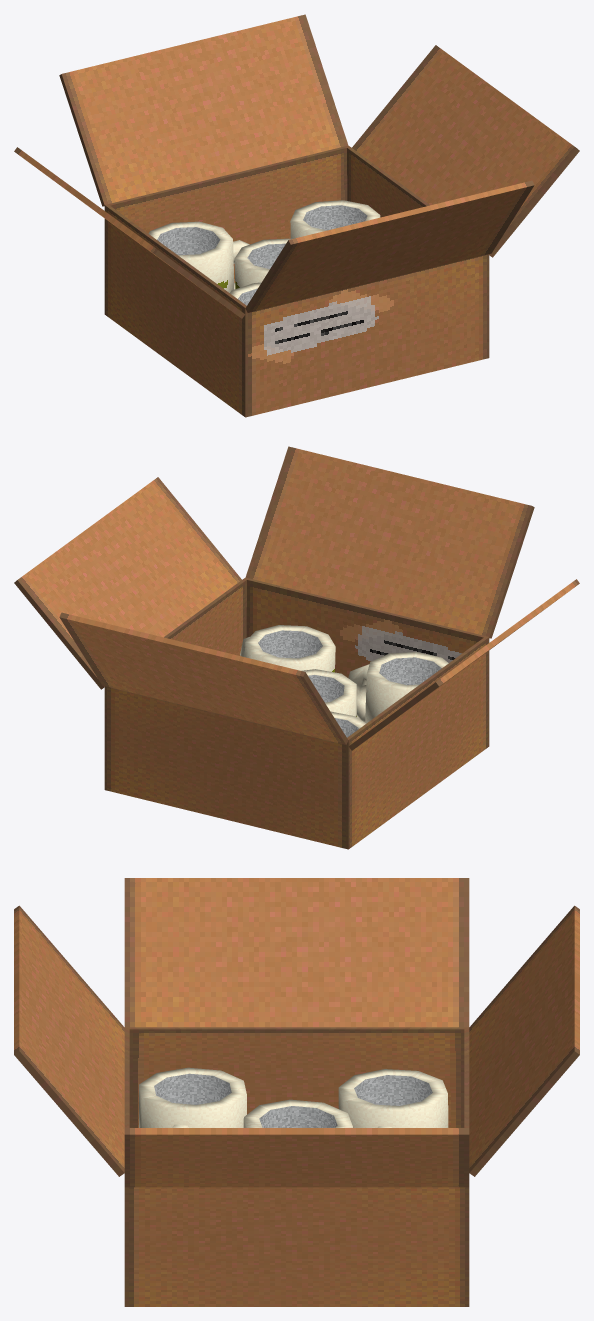
File: mugBox.fbx
The picture shows the model from 3 angles, top to bottom: view 1: azimuth 30°, elevation 25°; view 2: azimuth 150°, elevation 25°; view 3: azimuth 270°, elevation 25°; orthographic projection. The views are drawn at different scales.
Parts seen in each view (by area): view 1: caja, tapa.002, tapa, tapa.001, Cylinder.015, tapa.003; view 2: caja, tapa.001, tapa, tapa.002, Cylinder.015, tapa.003; view 3: caja, tapa.003, tapa, tapa.001, tapa.002, Cylinder.015.
Boxes of the visible parts, x1,y1,x2,y2 form: caja: [104, 145, 489, 417]; tapa.002: [59, 14, 348, 206]; tapa: [352, 45, 579, 257]; tapa.001: [245, 180, 534, 312]; Cylinder.015: [148, 200, 380, 305]; tapa.003: [14, 147, 244, 318]; caja: [104, 577, 489, 849]; tapa.001: [245, 446, 534, 638]; tapa: [14, 477, 241, 689]; tapa.002: [59, 612, 348, 744]; Cylinder.015: [240, 625, 448, 737]; tapa.003: [349, 579, 579, 750]; caja: [124, 1027, 469, 1306]; tapa.003: [124, 878, 469, 1027]; tapa: [124, 1128, 469, 1187]; tapa.001: [14, 905, 124, 1176]; tapa.002: [469, 905, 579, 1176]; Cylinder.015: [139, 1067, 448, 1127].
Size of the model in its own units: 349 by 164 by 328.
Materials: 4 (4 with a texture image).
